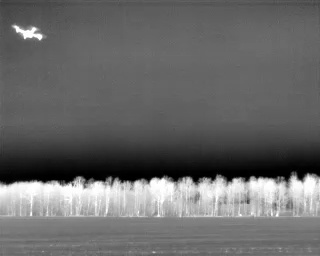DRONE: (8, 20, 51, 45)
